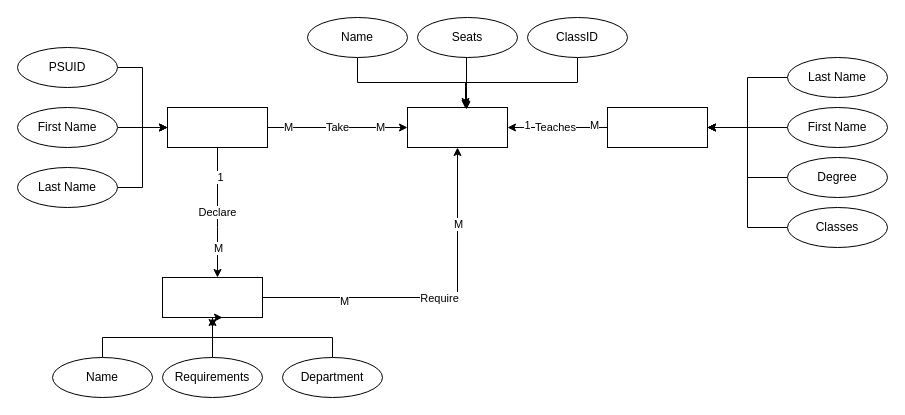
Some shapes in this 905 by 415 pixel diagram are drawn without their labels. The shapes that lost their labels are listed below. From the top down, each one's centre as x and y in pixels, then its label:
At (217,127): "Students".
At (457,127): "Courses".
At (657,127): "Professors".
At (212,297): "Majors".
